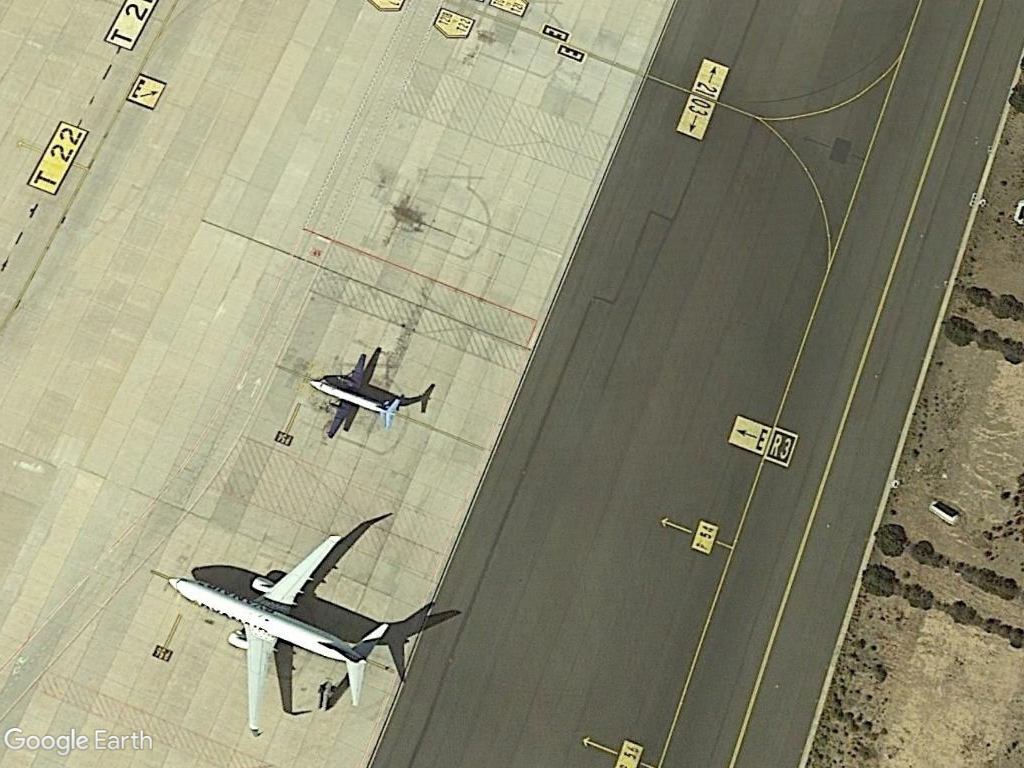airliner: (166, 525, 399, 742)
propeller: (300, 348, 408, 442)
